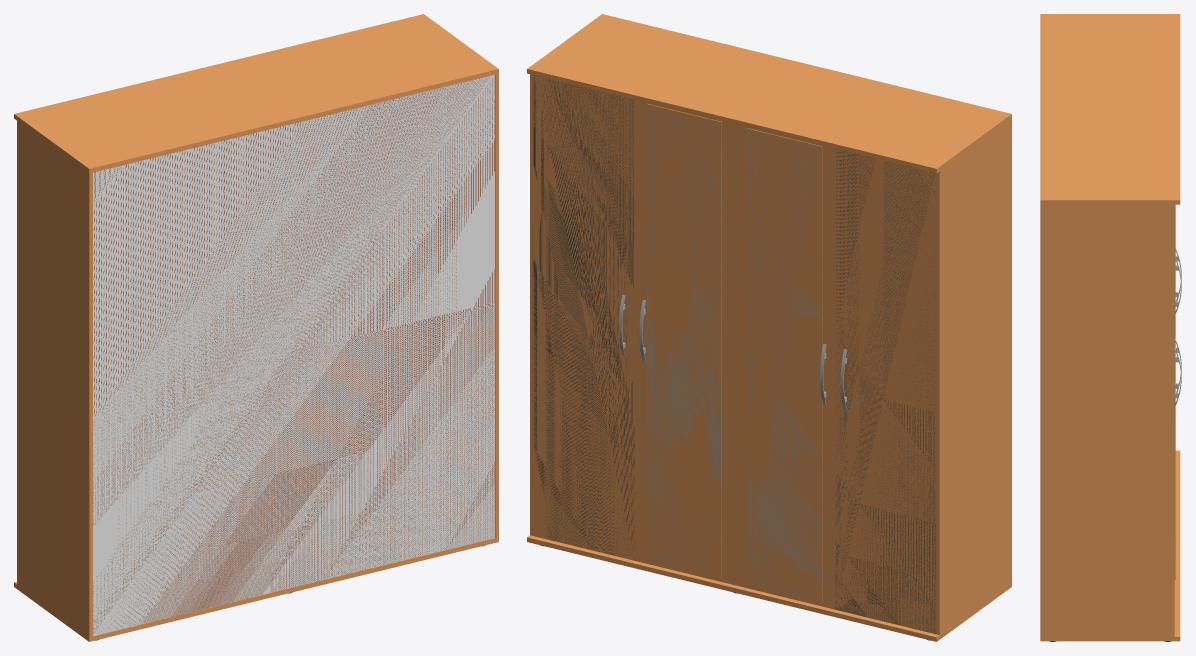
3 views of the same model, side by side, from view 1: azimuth 30°, elevation 25°; view 2: azimuth 150°, elevation 25°; view 3: azimuth 270°, elevation 25° (orthographic). The views are drawn at different scales.
Visible parts, largest first — view 1: mesh35_mesh35-geometry, mesh7_mesh7-geometry, mesh3_mesh3-geometry, mesh1_mesh1-geometry, mesh5_mesh5-geometry; view 2: mesh21_mesh21-geometry, mesh7_mesh7-geometry, mesh3_mesh3-geometry, mesh1_mesh1-geometry, mesh5_mesh5-geometry; view 3: mesh5_mesh5-geometry, mesh3_mesh3-geometry, mesh1_mesh1-geometry, mesh21_mesh21-geometry.
Part boxes in pixels (x1,y1,x2,y2): mesh35_mesh35-geometry: (93, 74, 494, 635); mesh7_mesh7-geometry: (17, 121, 92, 637); mesh3_mesh3-geometry: (14, 14, 498, 173); mesh1_mesh1-geometry: (14, 537, 498, 641); mesh5_mesh5-geometry: (495, 73, 498, 538); mesh21_mesh21-geometry: (533, 75, 935, 634); mesh7_mesh7-geometry: (936, 119, 1011, 635); mesh3_mesh3-geometry: (527, 14, 1011, 173); mesh1_mesh1-geometry: (527, 535, 1011, 641); mesh5_mesh5-geometry: (530, 74, 533, 535); mesh5_mesh5-geometry: (1040, 204, 1174, 636); mesh3_mesh3-geometry: (1040, 14, 1180, 204); mesh1_mesh1-geometry: (1040, 450, 1180, 641); mesh21_mesh21-geometry: (1174, 204, 1175, 579).
Size of the model in its own units: 0.6538 by 0.727 by 0.2098.
